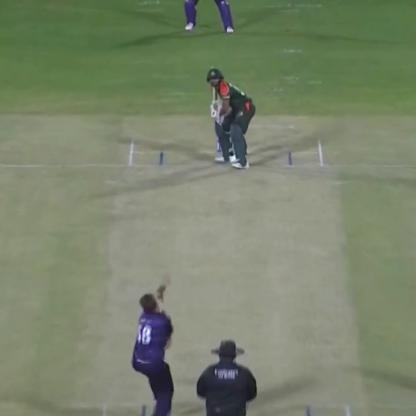bat: (206, 70, 220, 117)
pitch: (100, 138, 358, 416)
